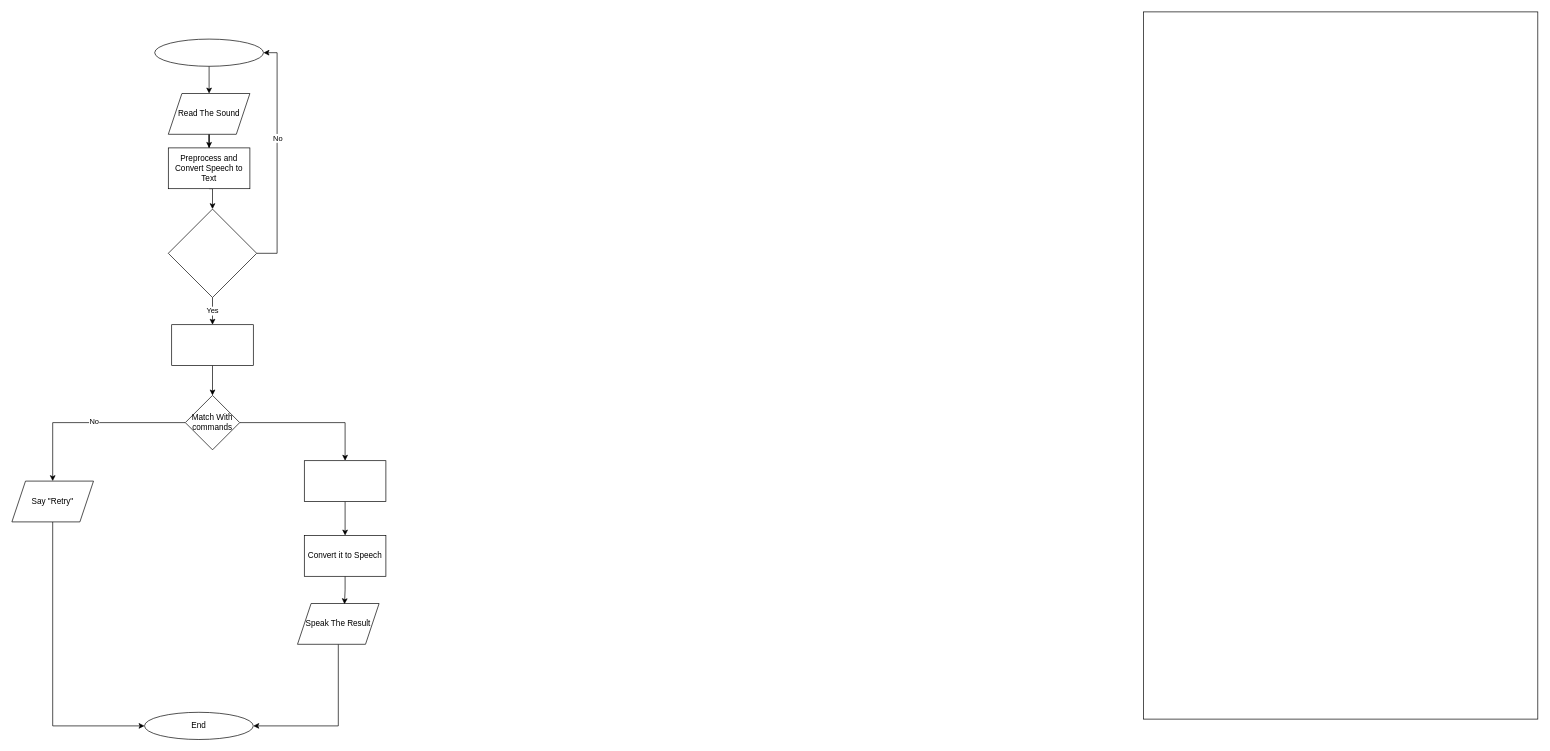
Image size: 1550x751. Some labels were removed from this diagram. The shapes that lost their labels are listed below. From the top down, each one's centre as x and y in pixels, then its label:
At pixel 209 52: "Start".
At pixel 212 253: "Match With wake up command".
At pixel 212 345: "Extract Intents and Arguments".
At pixel 345 481: "Execute The Command".
